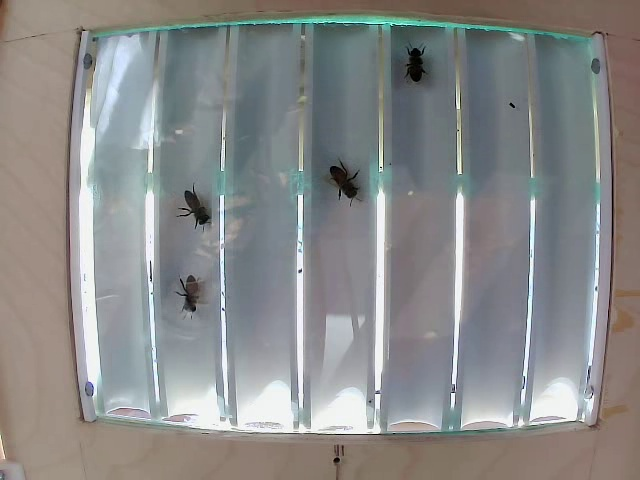bee: (176, 187, 226, 243), (393, 41, 444, 91), (159, 271, 216, 313), (321, 150, 362, 201)
